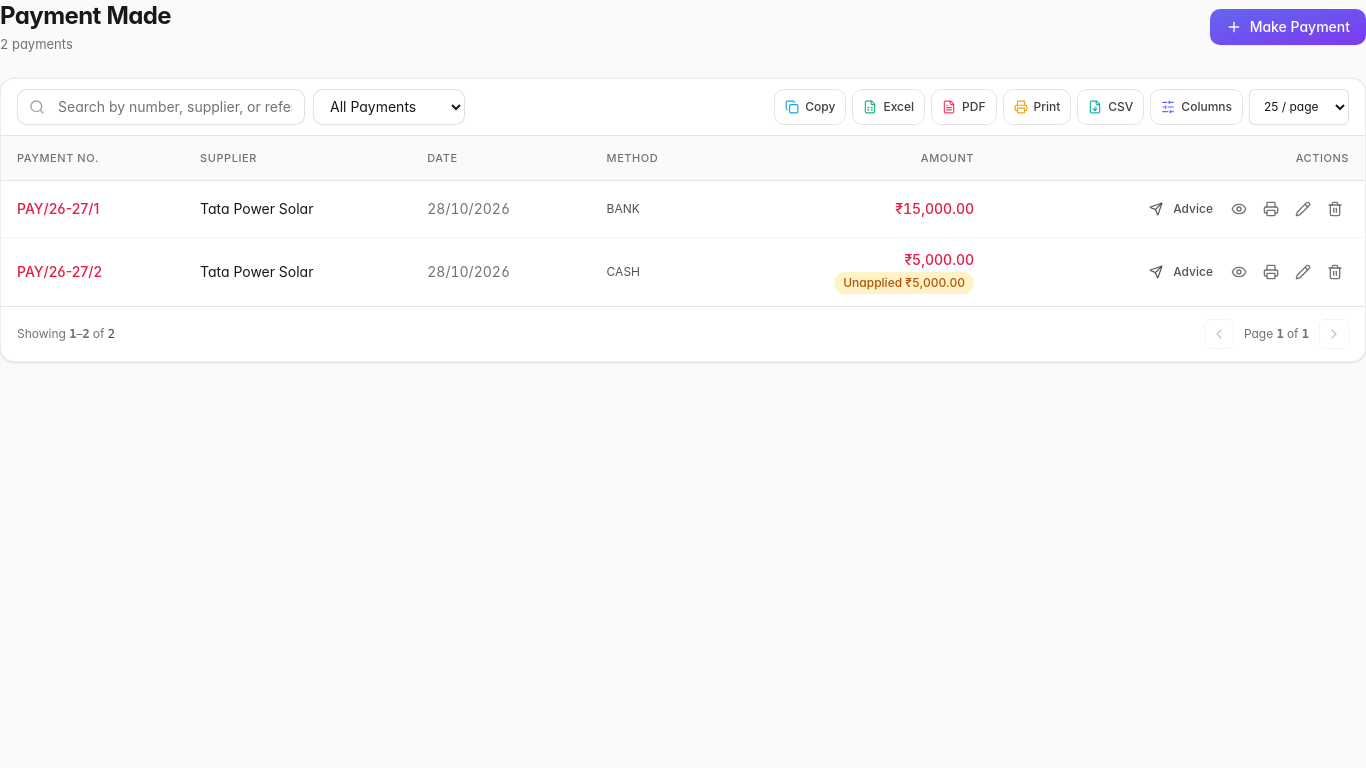
it: PaymentsMadePage › handles Delete action with confirmation dialog and triggers deletion workflow
Later steps or results of the test are not shown.
expect the button "PAY/26-27/1" is shown: met, box x1=17 y1=199 x2=99 y2=219
Click the button named "Delete payment" in the row of "bank" at coordinates (1335, 209), box x1=1321 y1=195 x2=1349 y2=223
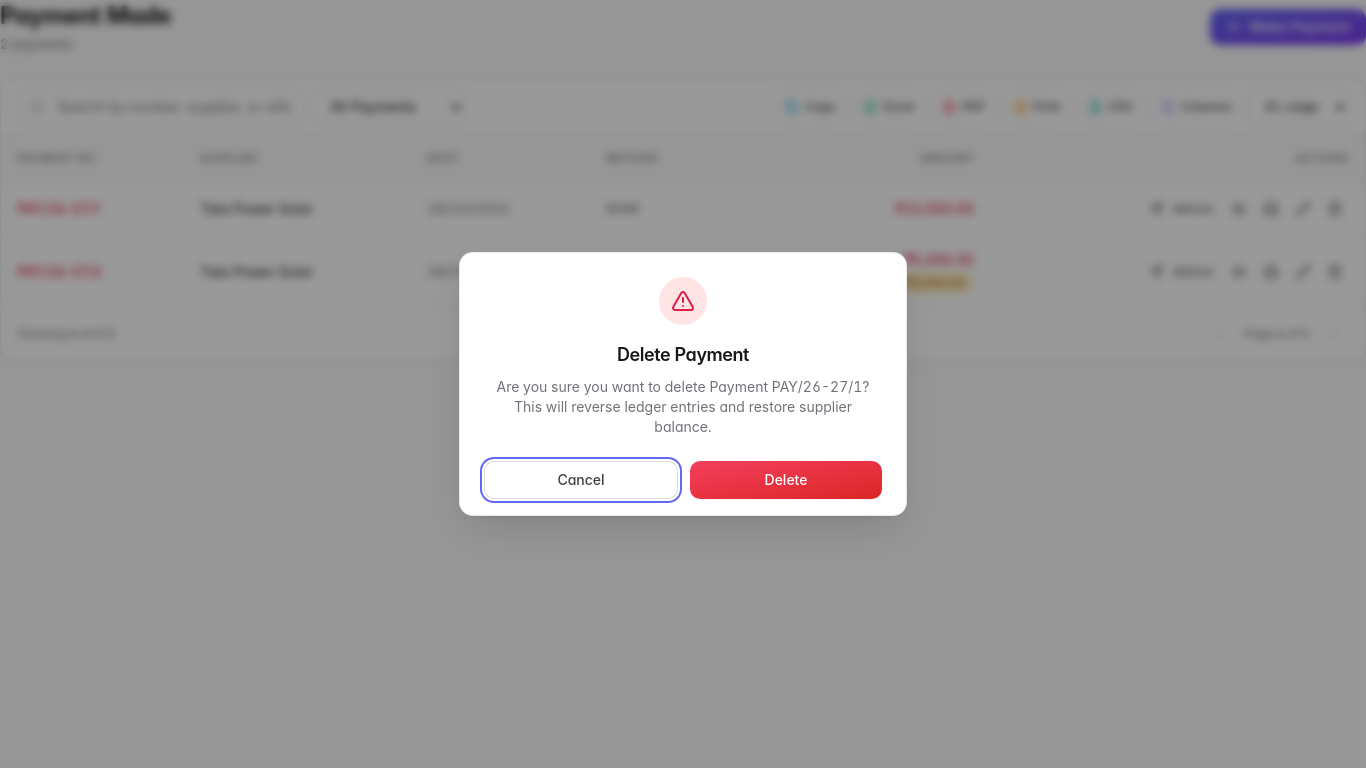
expect the text "Are you sure you want to delete Payment PAY/26-27/1? This will reverse ledger entries and restore supplier balance." is shown: met, box x1=496 y1=378 x2=870 y2=435
